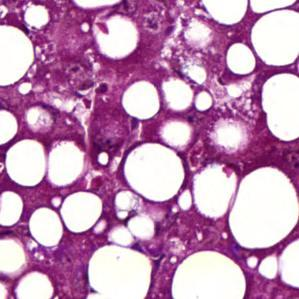steatosis: (122, 140, 184, 203), (6, 137, 44, 184), (25, 203, 62, 251), (121, 78, 162, 120), (61, 191, 103, 232), (225, 40, 258, 81)
